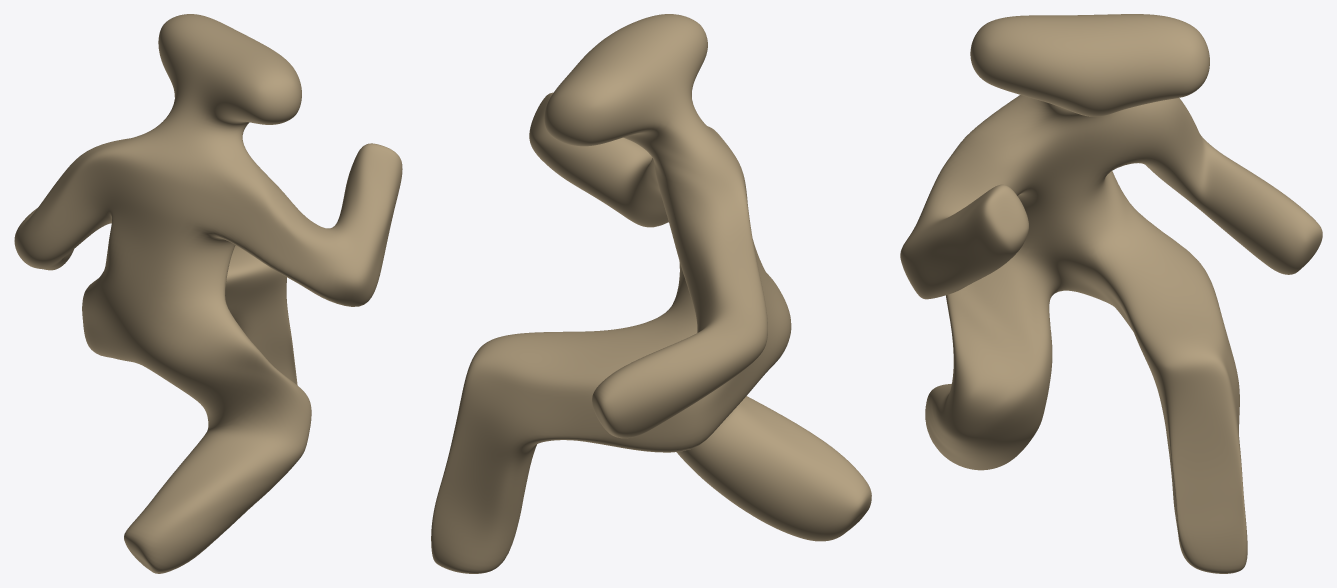
Rendered from nopee.fbx.
3 views of the same model, side by side, from view 1: azimuth 30°, elevation 25°; view 2: azimuth 150°, elevation 25°; view 3: azimuth 270°, elevation 25° (orthographic). The views are drawn at different scales.
Parts seen in each view (by area): view 1: Cube; view 2: Cube; view 3: Cube.
Part boxes in pixels (x1=…): Cube: x1=14, y1=14, x2=402, y2=573; Cube: x1=431, y1=14, x2=871, y2=573; Cube: x1=900, y1=14, x2=1322, y2=573.
Size of the model in its own units: 8.78 by 9.94 by 13.13.
